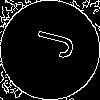J: (25, 25, 76, 61)
